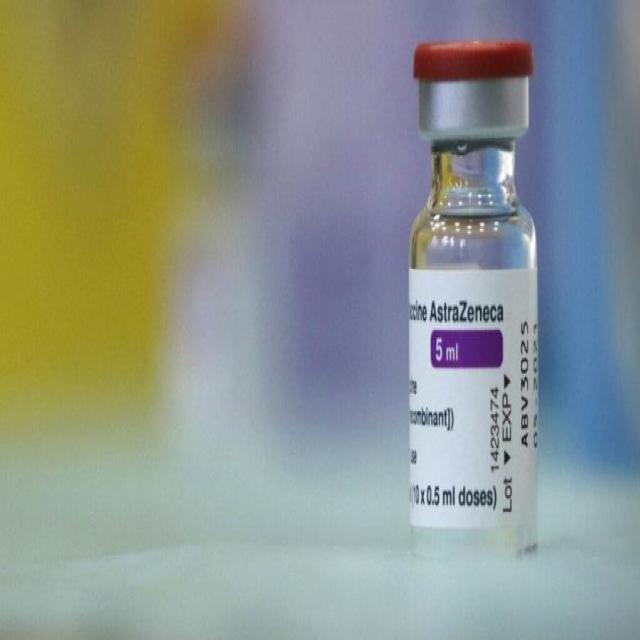B3: (400, 20, 543, 560)
